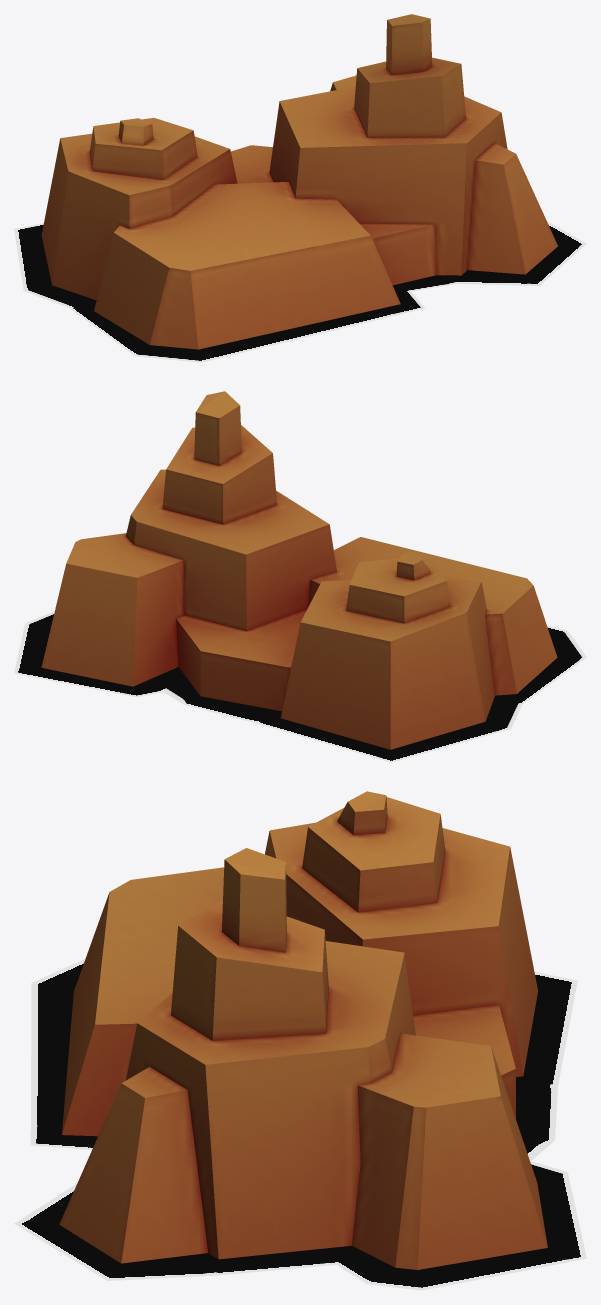
Rendered from 3x2_rock.FBX.
3 views of the same model, one above another, from view 1: azimuth 30°, elevation 25°; view 2: azimuth 150°, elevation 25°; view 3: azimuth 270°, elevation 25° (orthographic). The views are drawn at different scales.
Visible parts, largest first — view 1: 3x2_rock, 3x2_rock_soft_shadow; view 2: 3x2_rock, 3x2_rock_soft_shadow; view 3: 3x2_rock, 3x2_rock_soft_shadow.
Part boxes in pixels (left/top/right/bottom): 3x2_rock: left=41, top=14, right=557, bottom=349; 3x2_rock_soft_shadow: left=14, top=221, right=586, bottom=362; 3x2_rock: left=41, top=391, right=557, bottom=749; 3x2_rock_soft_shadow: left=14, top=612, right=586, bottom=762; 3x2_rock: left=59, top=791, right=547, bottom=1269; 3x2_rock_soft_shadow: left=14, top=959, right=586, bottom=1290.
Bounding box in the file's own units: 3381 × 1498 × 2333.
